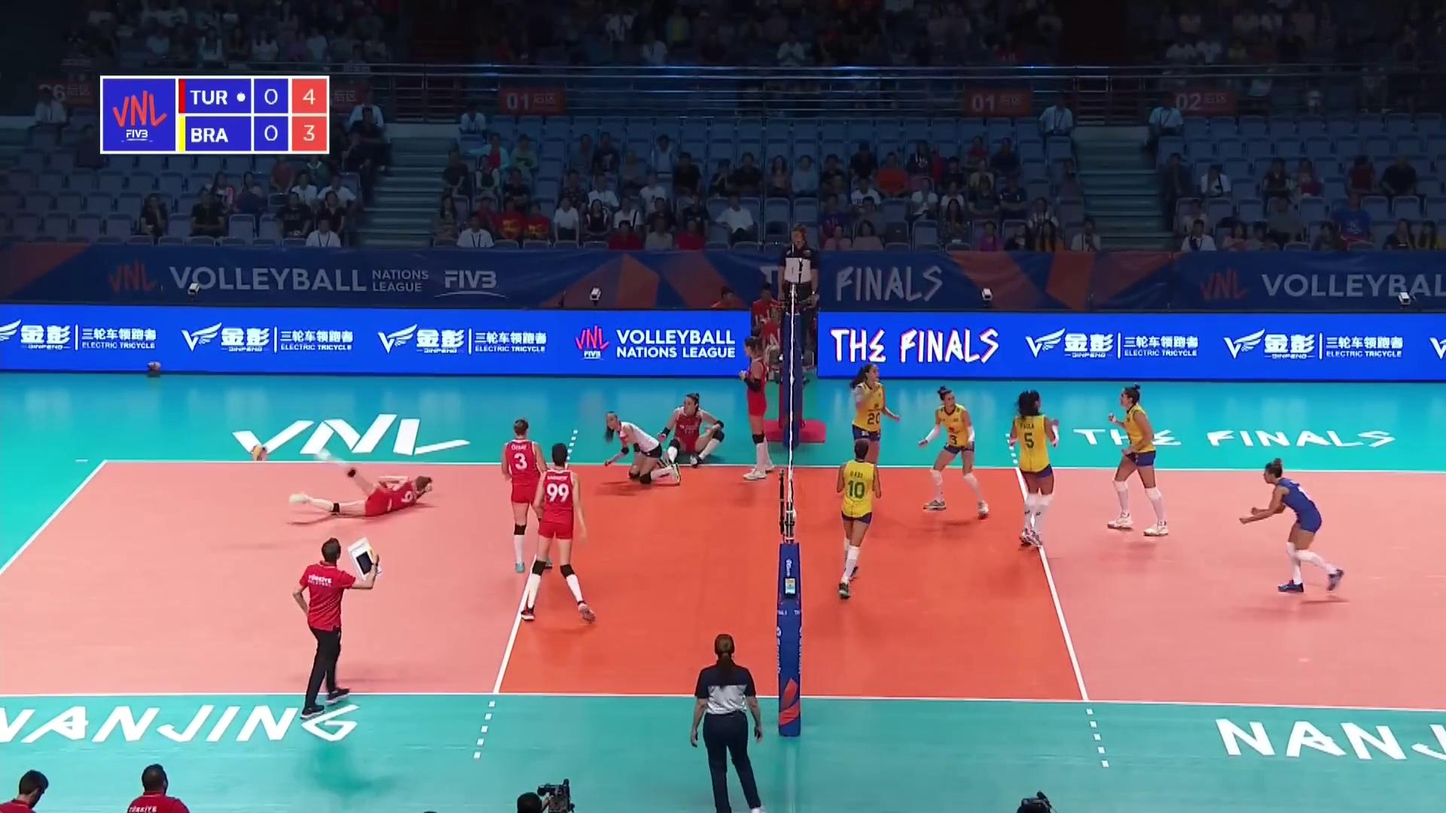player: (1240, 461, 1345, 598), (523, 441, 594, 624), (288, 446, 433, 521), (1103, 391, 1175, 536), (1001, 393, 1061, 553), (830, 438, 885, 599), (918, 390, 985, 517), (497, 416, 551, 573), (849, 364, 894, 516), (738, 342, 781, 486), (654, 395, 722, 481), (601, 412, 672, 490)
refree: (687, 637, 758, 812), (776, 222, 821, 363)
